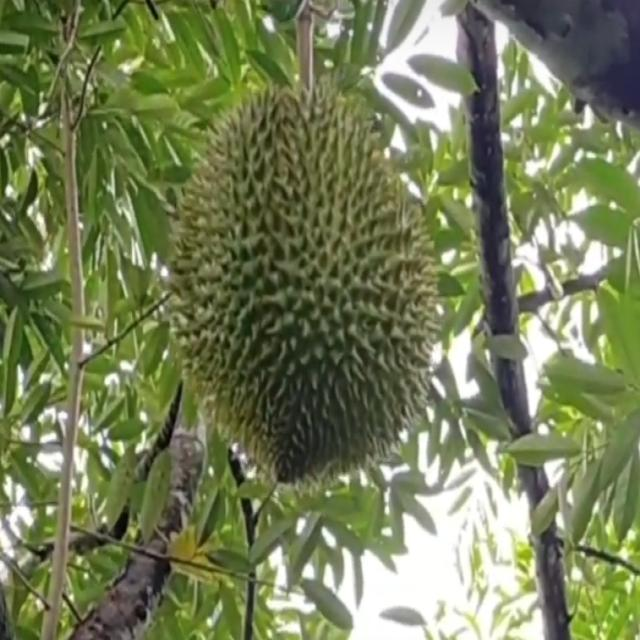immature: (167, 77, 442, 480)
